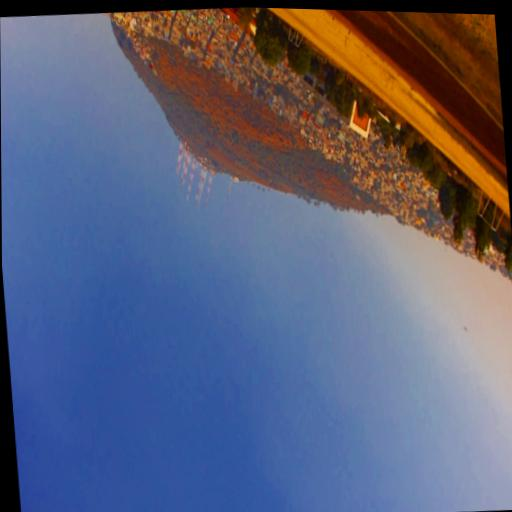drones: (463, 324, 468, 331)
